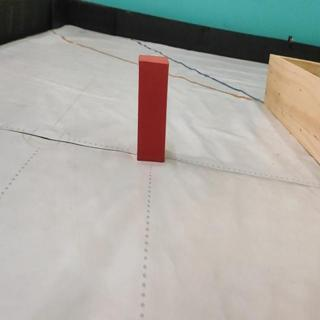redbox: (137, 54, 169, 162)
